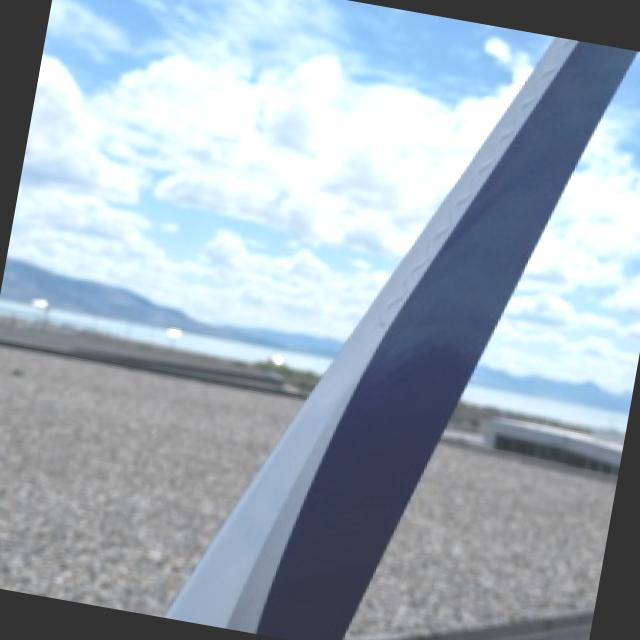healthy: (170, 37, 635, 640)
